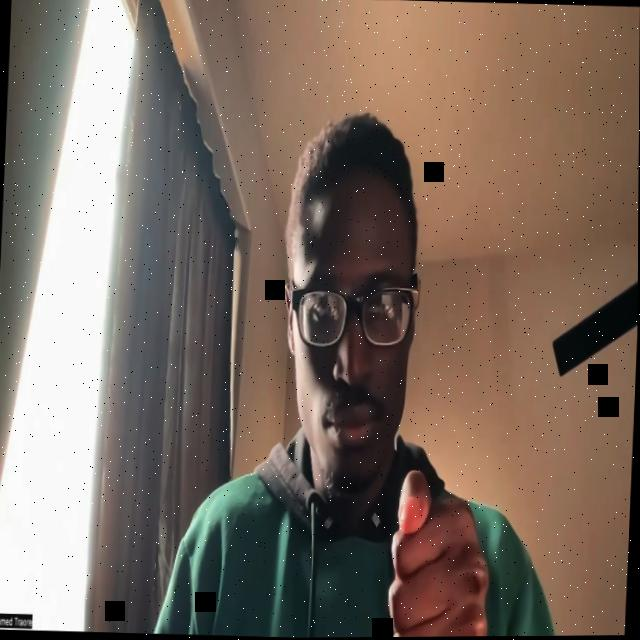Rock: (386, 468, 494, 638)
